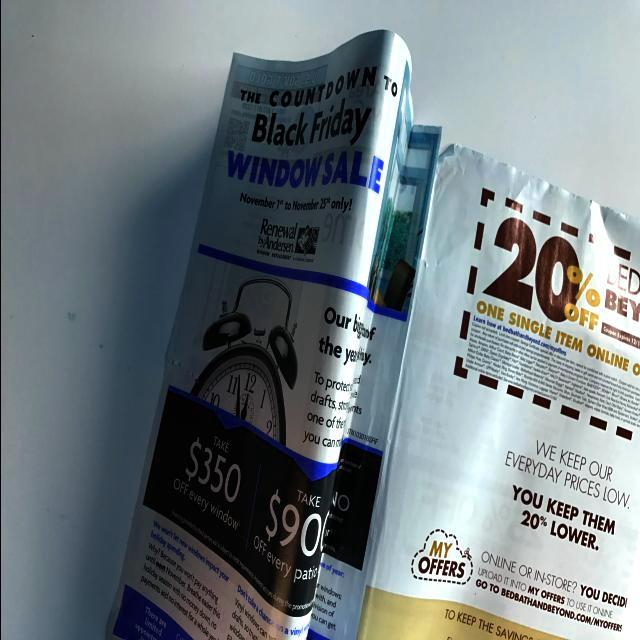paper: (102, 22, 640, 640)
